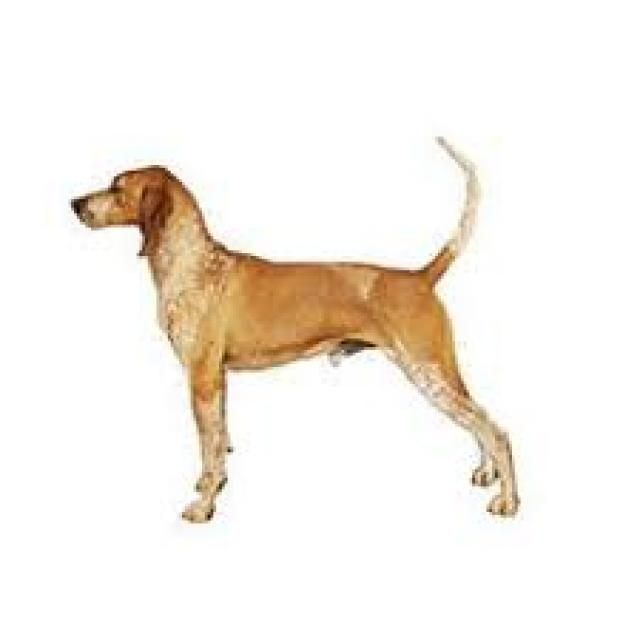good: (62, 132, 524, 529)
